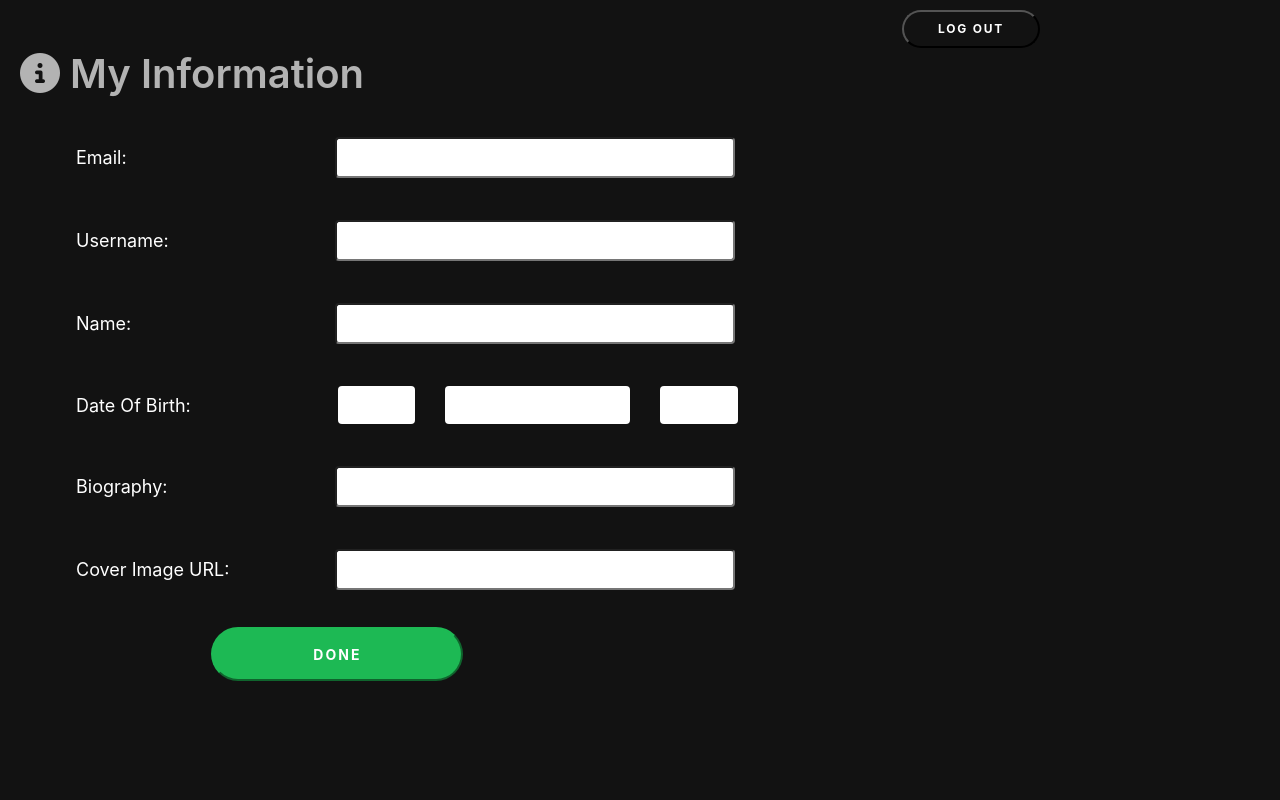
Edit Artist Information Render test › Should validate change in day input field
The image size is (1280, 800).
Step 1. Type "1000" into the number field with id "day-input" → [376, 405], box [338, 386, 415, 424]
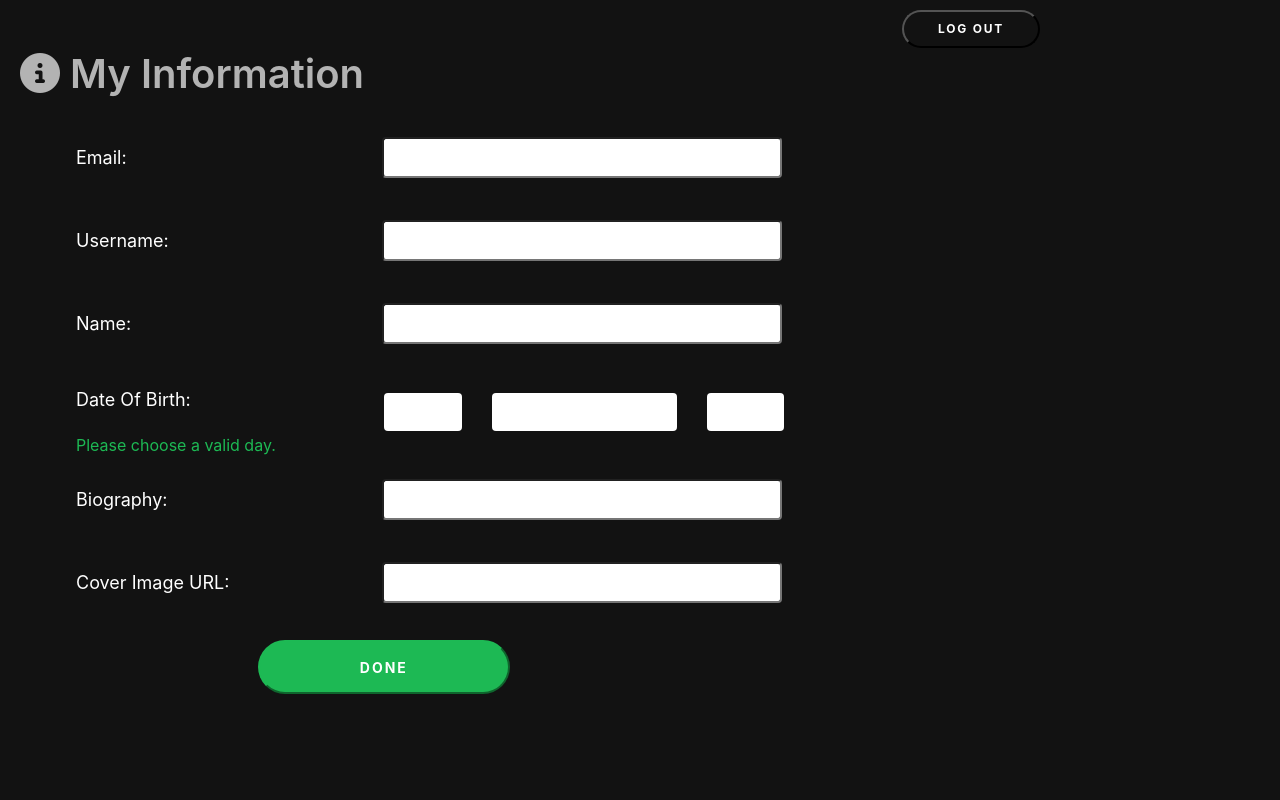
Now the text "Please choose a valid day." is shown, box [76, 433, 276, 457]
